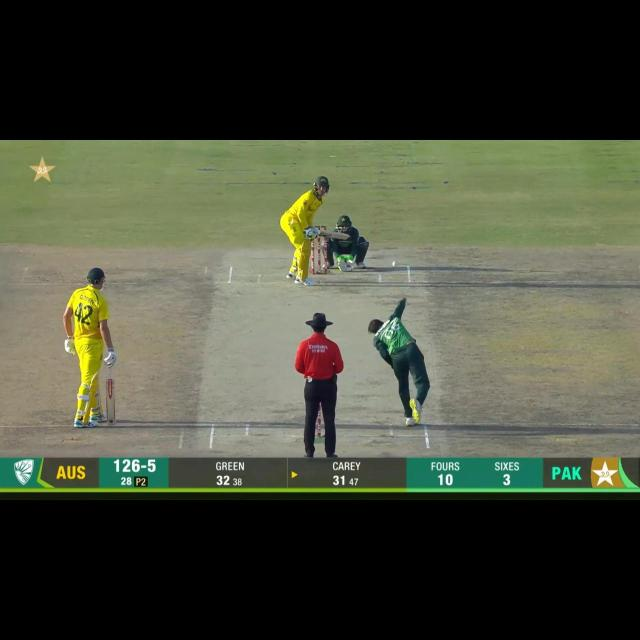bat: (105, 378, 117, 427), (318, 231, 350, 243)
toe: (104, 416, 119, 428), (339, 231, 350, 242)
